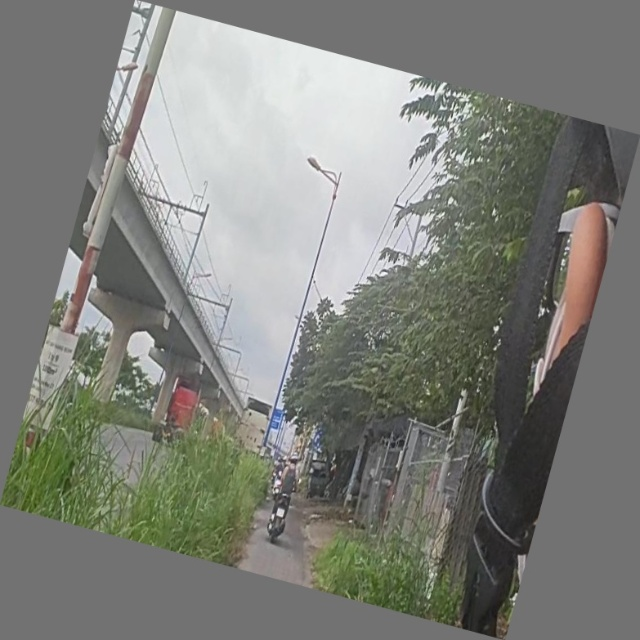I.409: (312, 431, 325, 449)
